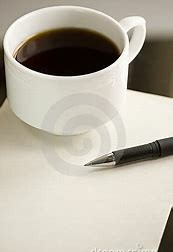pen: (87, 132, 173, 173)
